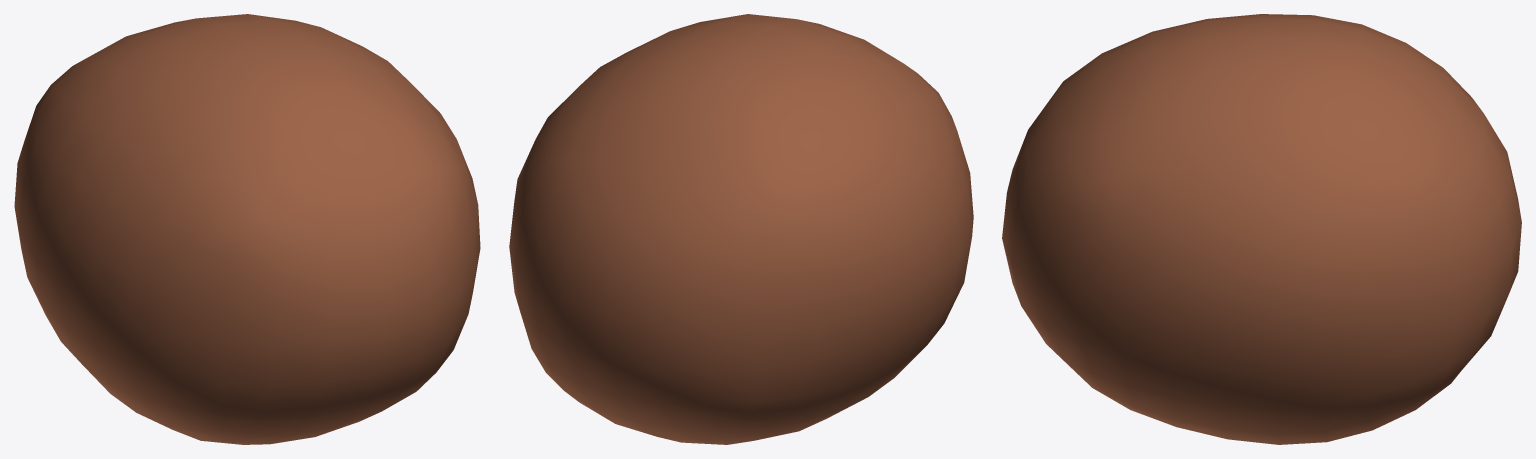
The model's file is Kiwi_02.dae.
3 renders of one model, left to right at view 1: azimuth 30°, elevation 25°; view 2: azimuth 150°, elevation 25°; view 3: azimuth 270°, elevation 25°, orthographic.
Parts seen in each view (by area): view 1: Kiwi_02_LOD0; view 2: Kiwi_02_LOD0; view 3: Kiwi_02_LOD0.
Boxes of the visible parts, <box> form: Kiwi_02_LOD0: <box>14,14,480,444</box>; Kiwi_02_LOD0: <box>509,14,973,444</box>; Kiwi_02_LOD0: <box>1002,14,1521,444</box>.
Size of what is drawn, in the model's own units: 3.15 by 3.62 by 2.93.
